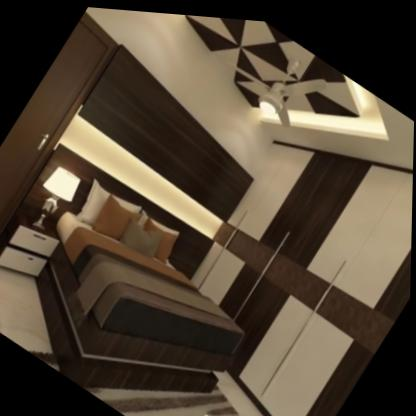Bed: (7, 168, 275, 416)
Closet: (220, 112, 414, 416)
Gypsum Board: (80, 5, 416, 239)
Lamp: (19, 153, 91, 240)
Nightstand: (0, 204, 65, 290)
